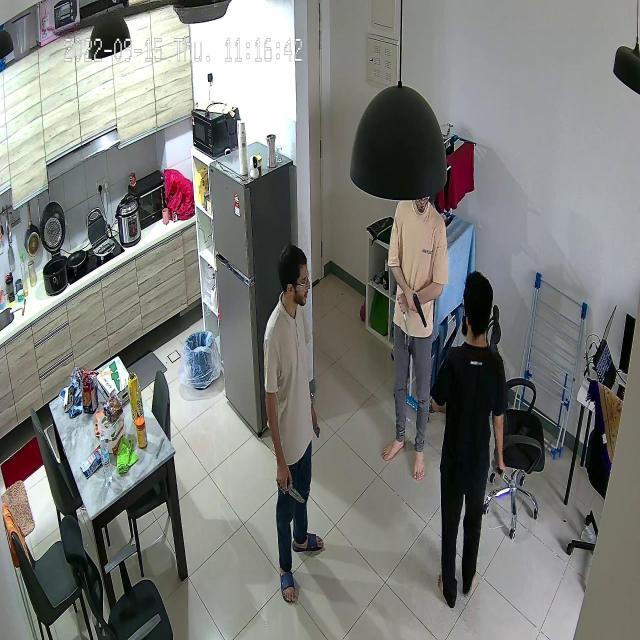Gun: (410, 276, 432, 333)
Knife: (270, 476, 318, 512)
